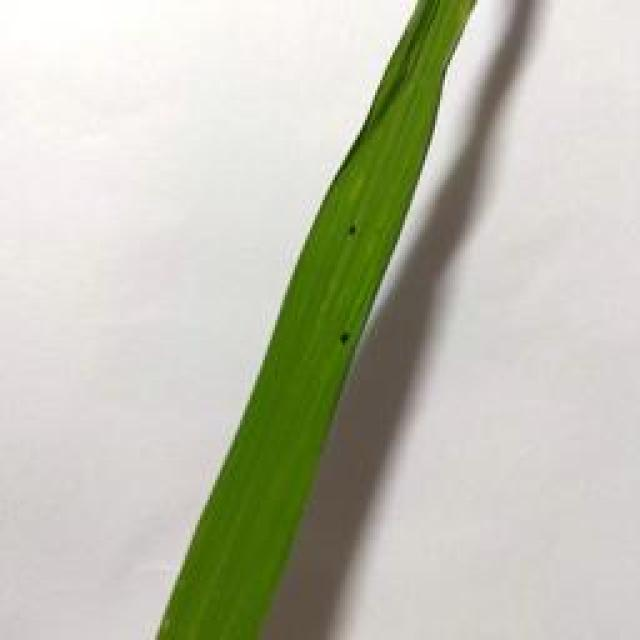Brown_Spot: (329, 318, 359, 360), (344, 215, 365, 252)
